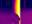Hotspot: (15, 0, 20, 18)
